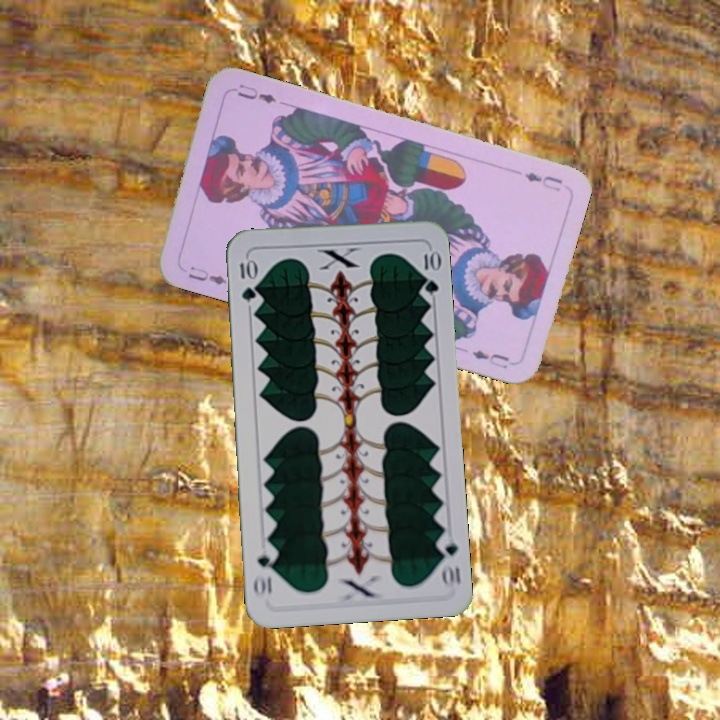EU: (184, 262, 229, 288), (520, 168, 565, 194)
G10: (433, 531, 464, 590), (236, 254, 258, 304)
